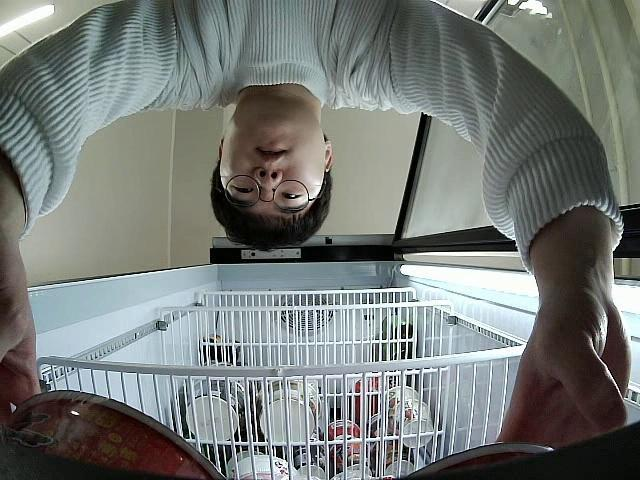01_ShinRamen_L: (8, 389, 229, 480)
